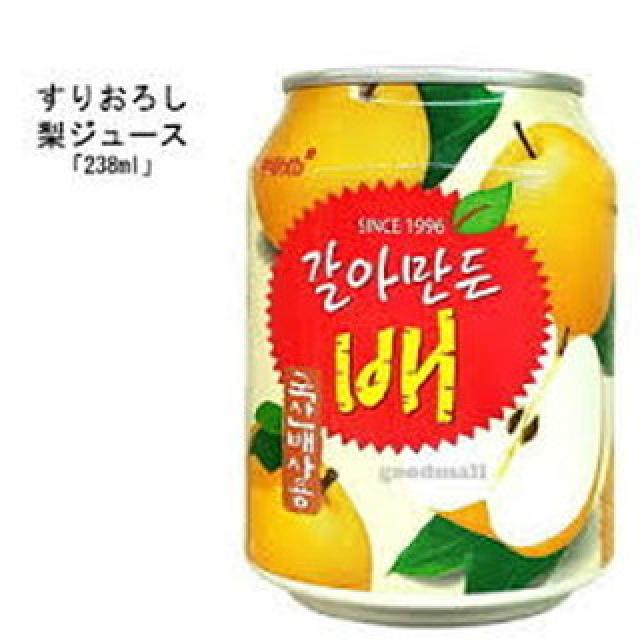Anorganik: (242, 56, 632, 634)
